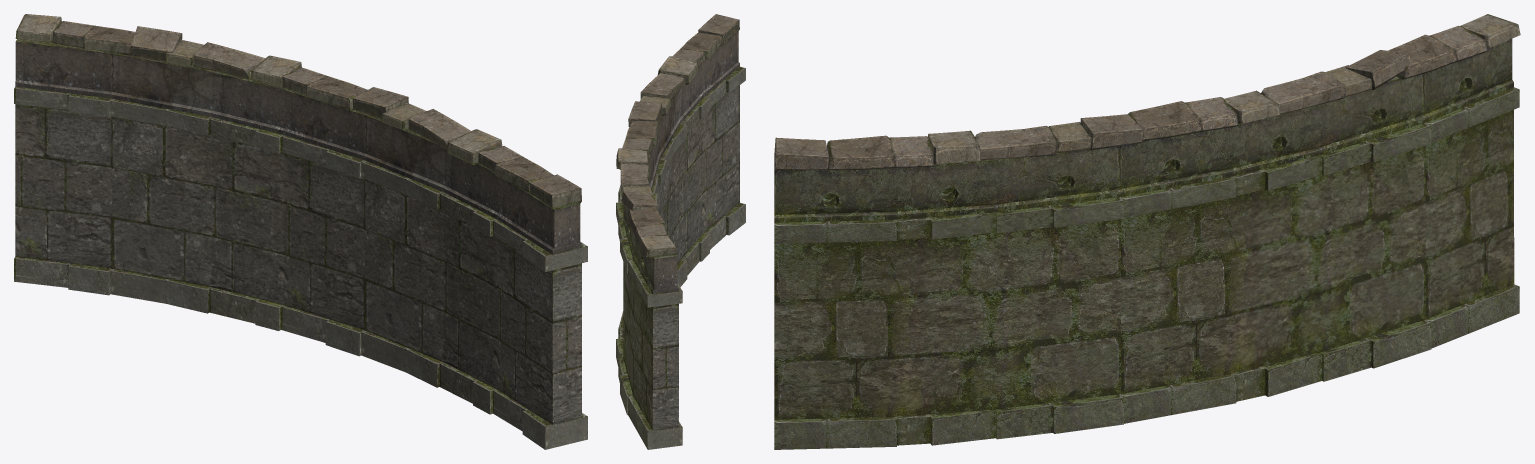
Rendered from bg_lut_lutomb_wall07_sm_old.FBX.
3 views of the same model, side by side, from view 1: azimuth 30°, elevation 25°; view 2: azimuth 150°, elevation 25°; view 3: azimuth 270°, elevation 25° (orthographic). The views are drawn at different scales.
Parts seen in each view (by area): view 1: bg_lut_lutomb_wall07_sm_old; view 2: bg_lut_lutomb_wall07_sm_old; view 3: bg_lut_lutomb_wall07_sm_old.
Part boxes in pixels (left/top/right/bottom): bg_lut_lutomb_wall07_sm_old: left=14, top=14, right=587, bottom=449; bg_lut_lutomb_wall07_sm_old: left=616, top=14, right=745, bottom=449; bg_lut_lutomb_wall07_sm_old: left=774, top=14, right=1520, bottom=449.
Size of the model in its own units: 582 by 530 by 1208.
